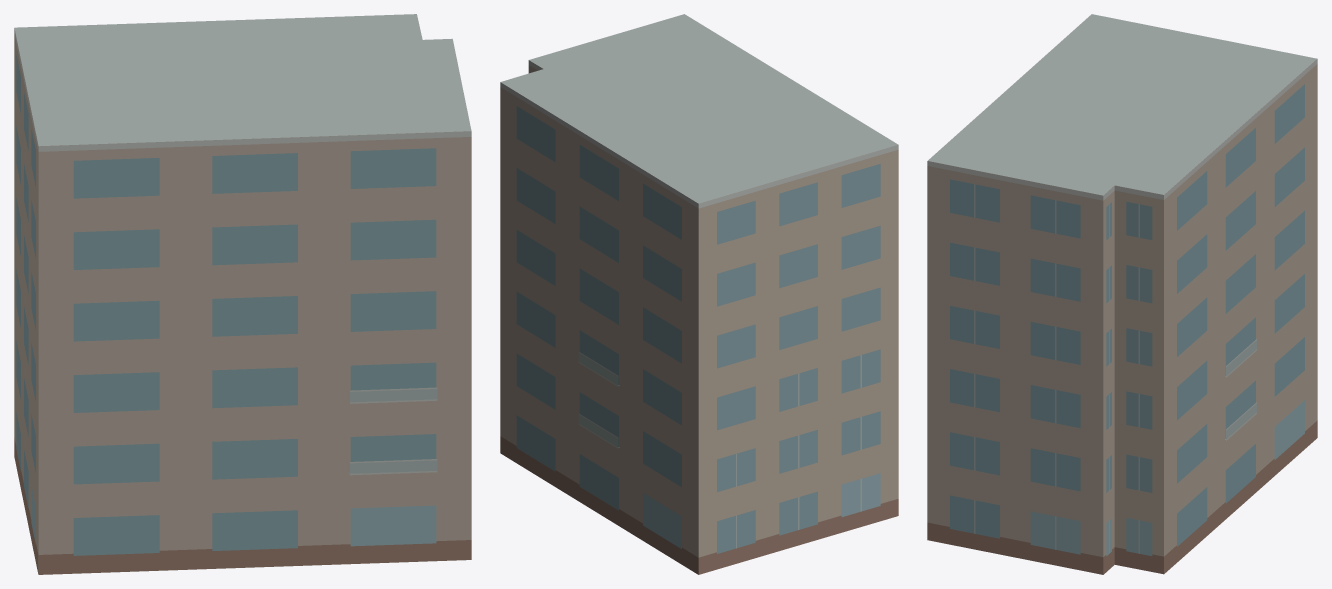
The model's file is survey-upis-32890172.glb.
The picture shows the model from 3 angles, left to right: view 1: azimuth 30°, elevation 25°; view 2: azimuth 150°, elevation 25°; view 3: azimuth 270°, elevation 25°; orthographic projection. The views are drawn at different scales.
Parts seen in each view (by area): view 1: survey-upis-32890172.tmp; view 2: survey-upis-32890172.tmp; view 3: survey-upis-32890172.tmp.
Part boxes in pixels (box(x1,y1,x2,y2)): survey-upis-32890172.tmp: box(14, 14, 471, 574); survey-upis-32890172.tmp: box(500, 14, 898, 574); survey-upis-32890172.tmp: box(927, 14, 1317, 574).
Size of the model in its own units: 19.01 by 18.5 by 17.25.
